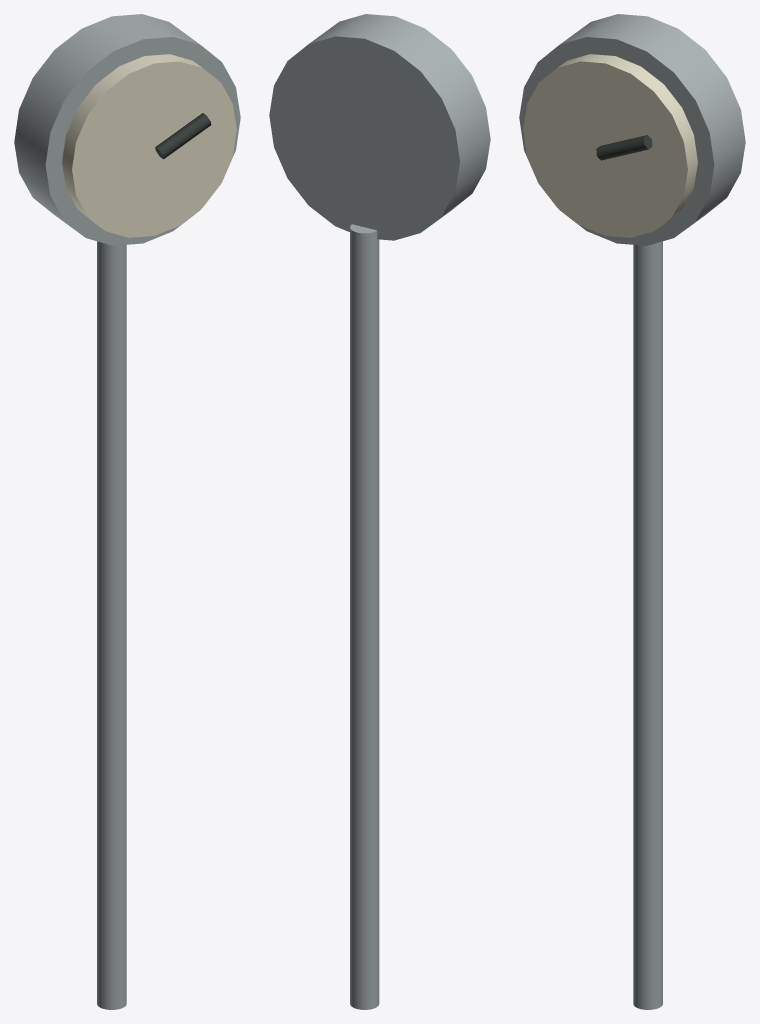
The model's file is survival-greenhouse-and-irrigation-soil-thermometer-2b37c3fd__21346.glb.
3 renders of one model, left to right at view 1: azimuth 30°, elevation 25°; view 2: azimuth 150°, elevation 25°; view 3: azimuth 330°, elevation 25°, orthographic. The views are drawn at different scales.
Visible parts, largest first — view 1: soil-thermometer; view 2: soil-thermometer; view 3: soil-thermometer.
Boxes of the visible parts, bbox=[...] form: soil-thermometer: bbox=[14, 14, 240, 1009]; soil-thermometer: bbox=[269, 14, 490, 1009]; soil-thermometer: bbox=[519, 14, 745, 1009].
Size of the model in its own units: 0.09 by 0.435 by 0.047.
